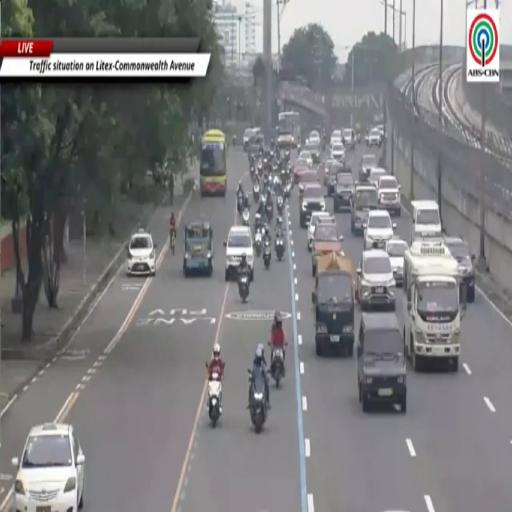bus: (200, 130, 227, 196), (277, 111, 300, 149)
car: (12, 423, 85, 511), (357, 313, 406, 412), (357, 249, 396, 310), (445, 236, 475, 302), (312, 222, 344, 277), (224, 226, 254, 281), (126, 229, 155, 276), (351, 183, 377, 234), (364, 210, 396, 249), (300, 184, 326, 228), (385, 237, 407, 286), (307, 212, 335, 250), (378, 175, 401, 216), (334, 172, 354, 213), (325, 162, 345, 196), (298, 170, 319, 197), (360, 154, 378, 181), (304, 139, 321, 164), (294, 159, 310, 184), (369, 167, 388, 186), (324, 158, 336, 186), (366, 128, 382, 147), (342, 128, 356, 149), (243, 128, 255, 151), (331, 142, 344, 161), (298, 150, 312, 167), (330, 130, 342, 147), (309, 131, 321, 143), (376, 124, 384, 138)
motorcycle: (248, 370, 267, 433), (208, 373, 221, 427), (271, 348, 284, 388), (262, 238, 272, 270), (239, 275, 249, 302), (274, 236, 284, 261), (254, 228, 262, 257), (242, 207, 250, 226), (265, 202, 273, 220), (280, 167, 287, 186), (237, 195, 244, 214), (253, 183, 260, 202), (277, 196, 284, 215), (284, 183, 292, 199), (255, 213, 261, 232), (273, 173, 280, 189), (250, 163, 256, 180), (284, 149, 290, 162), (258, 162, 263, 177), (297, 143, 301, 153)
truck: (404, 240, 465, 372), (312, 252, 354, 356), (410, 200, 442, 243)
